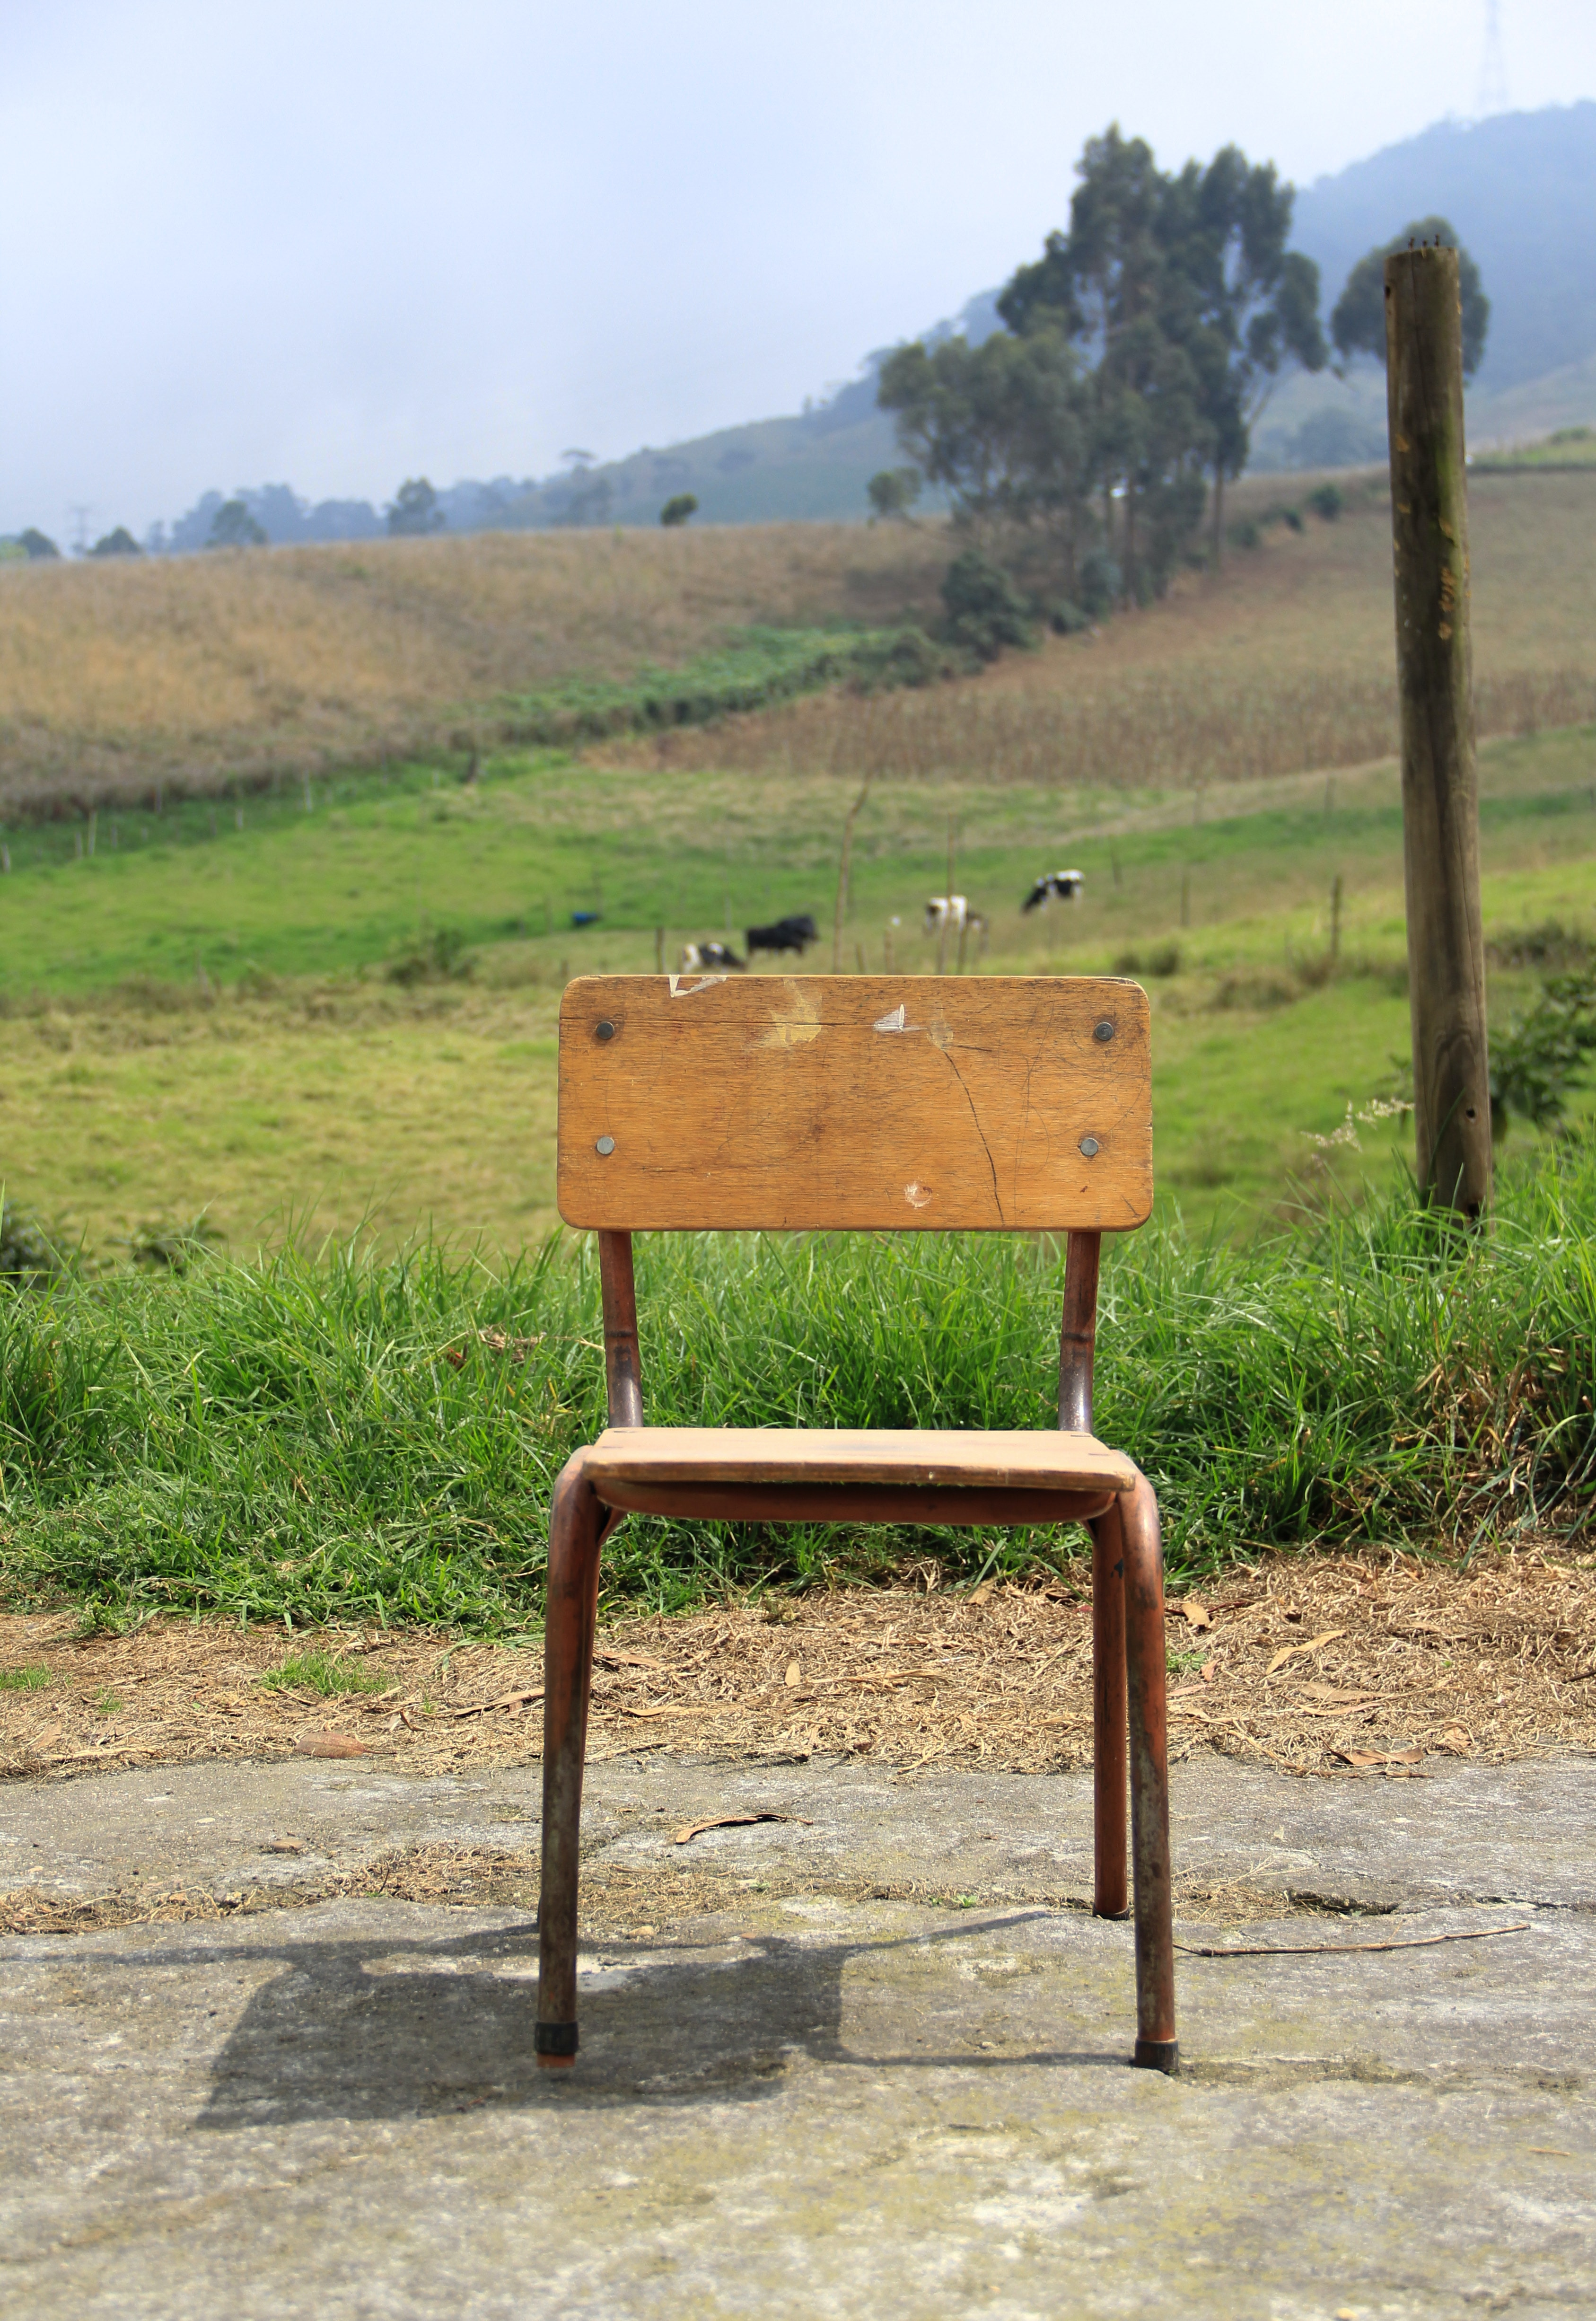Chair: (529, 966, 1178, 2079)
